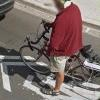Bicycle: (16, 16, 92, 89)
